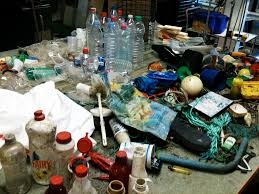plastic: (98, 82, 180, 140), (24, 109, 59, 186), (1, 132, 33, 193), (82, 7, 106, 70), (114, 23, 135, 79), (132, 70, 182, 93), (92, 90, 110, 148), (108, 148, 132, 190), (68, 164, 100, 193), (131, 15, 148, 69), (196, 66, 228, 94), (53, 130, 76, 163), (25, 65, 63, 83), (129, 177, 150, 194), (166, 164, 193, 176), (105, 177, 124, 194), (220, 135, 237, 152)
